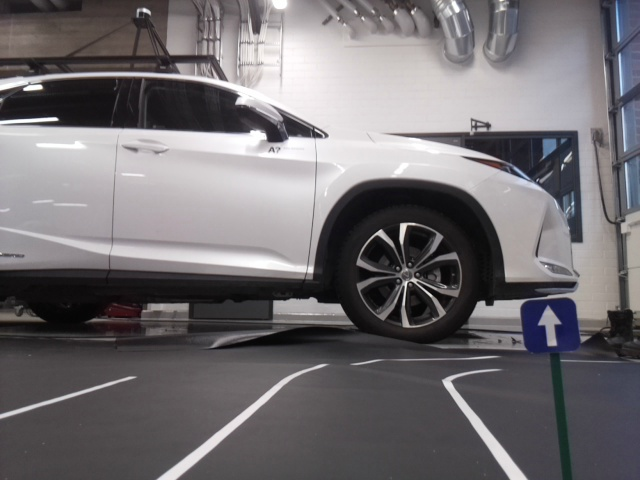OneWay: (522, 301, 581, 352)
